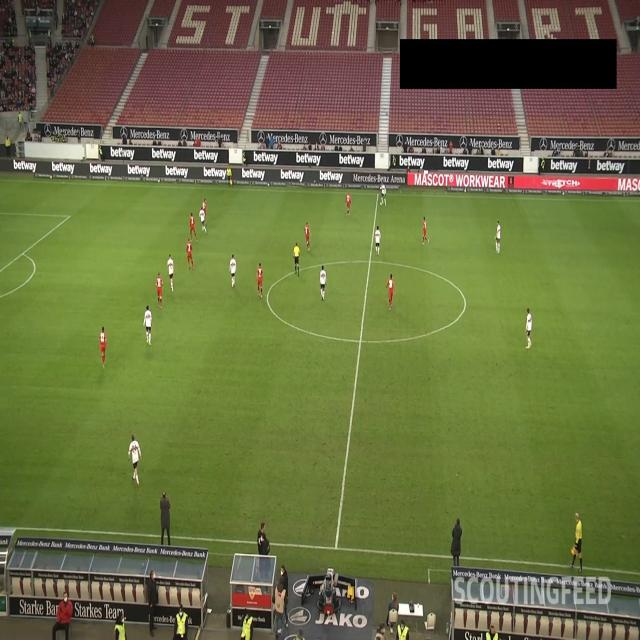ball: (380, 201, 382, 207)
